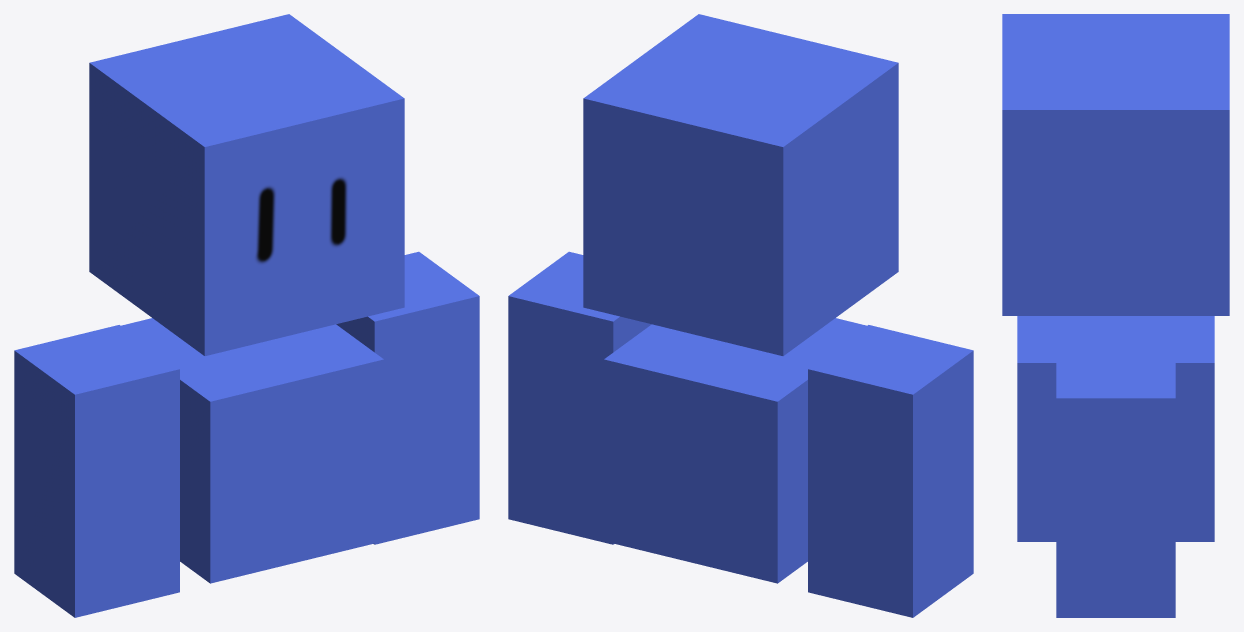
The model's file is Player.obj.
3 renders of one model, left to right at view 1: azimuth 30°, elevation 25°; view 2: azimuth 150°, elevation 25°; view 3: azimuth 270°, elevation 25°, orthographic.
Visible parts, largest first — view 1: Cube; view 2: Cube; view 3: Cube.
Part boxes in pixels (box(x1,y1,x2,y2)): Cube: box(14, 14, 479, 617); Cube: box(508, 14, 973, 617); Cube: box(1002, 14, 1229, 617).
Size of the model in its own units: 4.05 by 4.45 by 2.
Materials: 1 (1 with a texture image).
